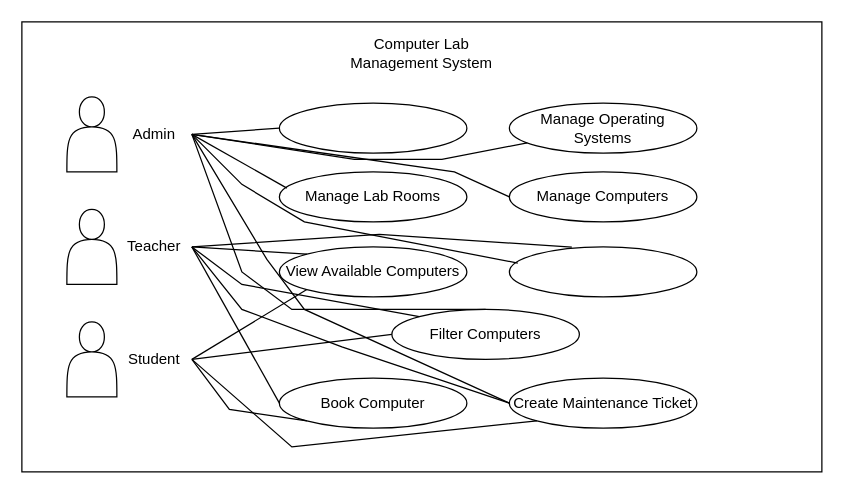
Image size: 844x494. Some labels were removed from this diagram. Each missing label, with the box of its shape:
Manage Users: (278, 102, 467, 153)
View Bookings: (508, 246, 697, 297)
